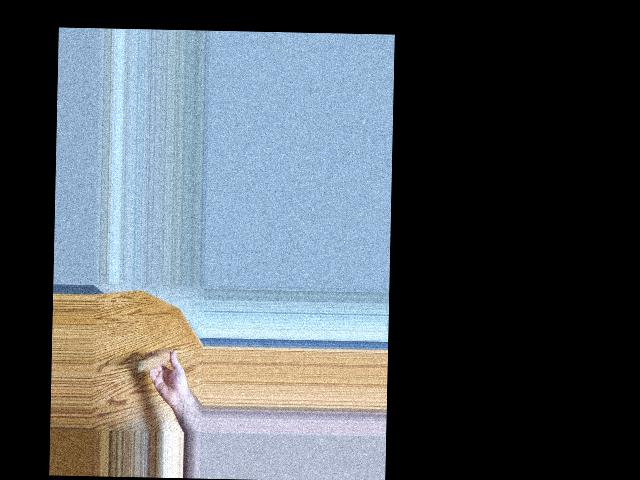sweet_potato: (136, 349, 173, 374)
